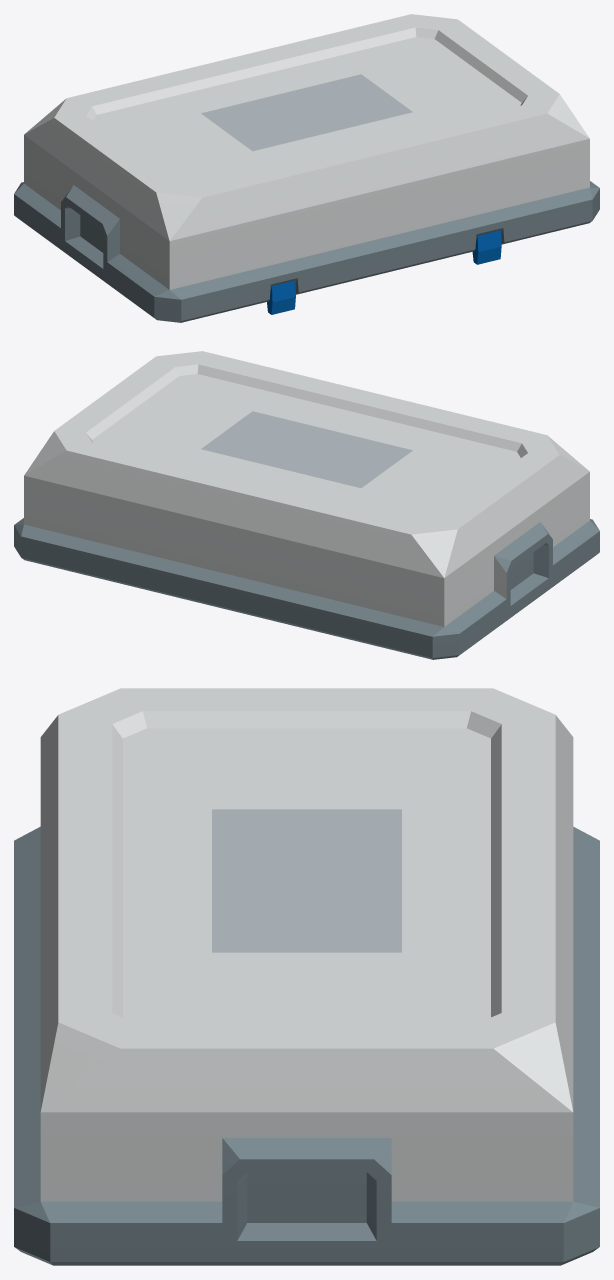
Rendered from Crate_012_cap_001.fbx.
3 views of the same model, one above another, from view 1: azimuth 30°, elevation 25°; view 2: azimuth 150°, elevation 25°; view 3: azimuth 270°, elevation 25° (orthographic). The views are drawn at different scales.
Visible parts, largest first — view 1: Crate_012_cap_001; view 2: Crate_012_cap_001; view 3: Crate_012_cap_001.
Boxes of the visible parts, x1=… form: Crate_012_cap_001: x1=14, y1=14, x2=599, y2=322; Crate_012_cap_001: x1=14, y1=351, x2=599, y2=659; Crate_012_cap_001: x1=14, y1=688, x2=599, y2=1265.
Bounding box in the file's own units: 106 × 66 × 28.04.
